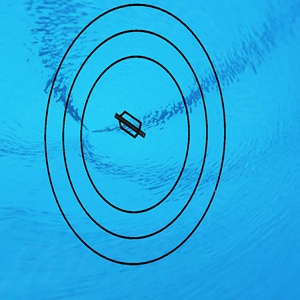circle: (43, 8, 230, 270)
submarine: (114, 109, 148, 141)
